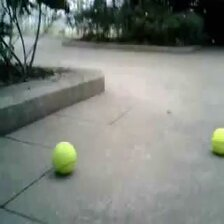tennis: (53, 142, 77, 173), (211, 128, 224, 155)
